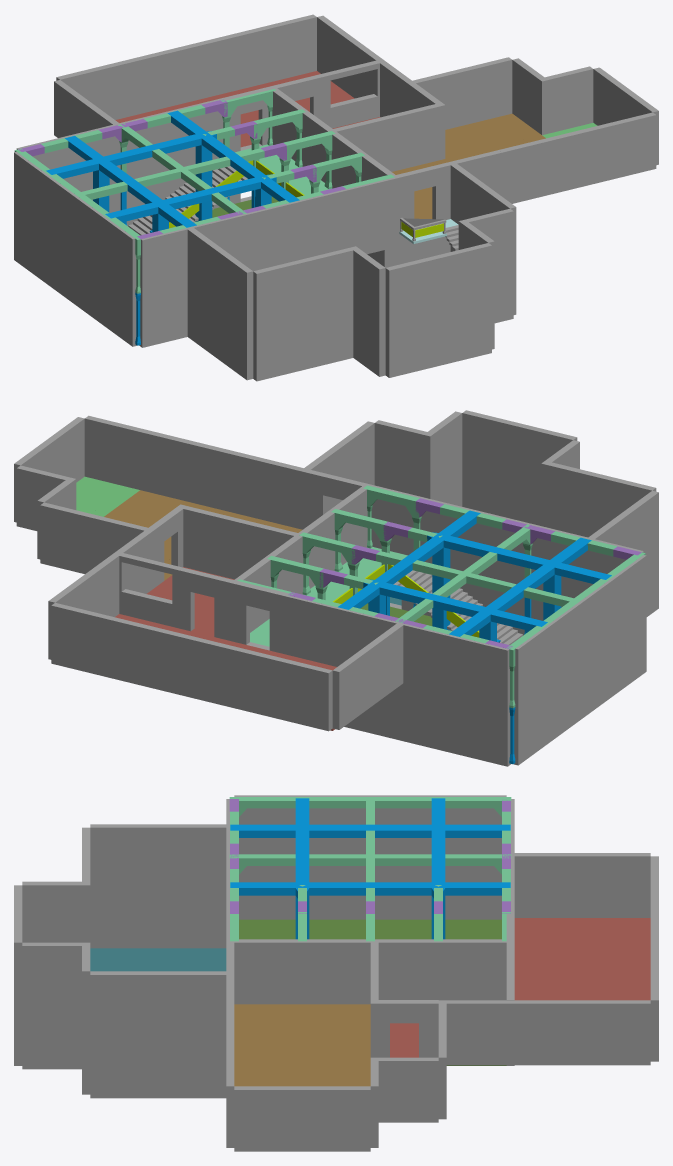
File: Zonas (1).fbx
3 renders of one model, top to bottom at view 1: azimuth 30°, elevation 25°; view 2: azimuth 150°, elevation 25°; view 3: azimuth 270°, elevation 25°, orthographic. The views are drawn at different scales.
Parts seen in each view (by area): view 1: polySurface1973, polySurface2068, polySurface2067, polySurface2045, polySurface2087, polySurface1838, polySurface1843, polySurface2040, polySurface2041, polySurface2042, polySurface2059, polySurface1845 (+64 smaller); view 2: polySurface1973, polySurface1840, polySurface2066, polySurface1850, polySurface2042, polySurface1838, polySurface2050, polySurface2041, polySurface2059, polySurface1843, polySurface1845, polySurface1992 (+68 smaller); view 3: polySurface1973, polySurface2044, polySurface2047, polySurface2069, polySurface2105, polySurface1841, polySurface1848, polySurface1855, polySurface2071, polySurface2088, polySurface1963, polySurface2030 (+51 smaller).
Part boxes in pixels (x1=…): polySurface1973: x1=46, y1=110, x2=299, y2=232; polySurface2068: x1=385, y1=255, x2=440, y2=324; polySurface2067: x1=253, y1=259, x2=307, y2=327; polySurface2045: x1=540, y1=66, x2=593, y2=135; polySurface2087: x1=385, y1=312, x2=440, y2=377; polySurface1838: x1=211, y1=27, x2=265, y2=95; polySurface1843: x1=159, y1=39, x2=214, y2=108; polySurface2040: x1=458, y1=57, x2=512, y2=125; polySurface2041: x1=550, y1=125, x2=604, y2=193; polySurface2042: x1=602, y1=112, x2=656, y2=181; polySurface2059: x1=437, y1=243, x2=491, y2=311; polySurface1845: x1=262, y1=14, x2=316, y2=83; polySurface1973: x1=338, y1=510, x2=611, y2=641; polySurface1840: x1=273, y1=657, x2=332, y2=731; polySurface2066: x1=374, y1=420, x2=433, y2=494; polySurface1850: x1=217, y1=643, x2=276, y2=717; polySurface2042: x1=84, y1=415, x2=143, y2=489; polySurface1838: x1=106, y1=616, x2=165, y2=690; polySurface2050: x1=195, y1=443, x2=254, y2=516; polySurface2041: x1=140, y1=429, x2=199, y2=503; polySurface2059: x1=462, y1=410, x2=521, y2=484; polySurface1843: x1=162, y1=630, x2=220, y2=703; polySurface1845: x1=51, y1=602, x2=110, y2=676; polySurface1992: x1=452, y1=636, x2=509, y2=708; polySurface1973: x1=230, y1=798, x2=510, y2=939; polySurface2044: x1=302, y1=1086, x2=370, y2=1151; polySurface2047: x1=234, y1=1086, x2=302, y2=1151; polySurface2069: x1=90, y1=971, x2=158, y2=1036; polySurface2105: x1=158, y1=971, x2=226, y2=1036; polySurface1841: x1=582, y1=1000, x2=650, y2=1065; polySurface1848: x1=514, y1=1000, x2=582, y2=1065; polySurface1855: x1=446, y1=1000, x2=514, y2=1065; polySurface2071: x1=90, y1=824, x2=158, y2=889; polySurface2088: x1=158, y1=824, x2=226, y2=889; polySurface1963: x1=302, y1=939, x2=370, y2=1004; polySurface2030: x1=234, y1=939, x2=302, y2=1004.
Bounding box in the file's own units: 231 × 46.62 × 214.
